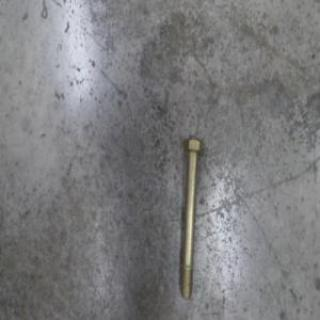Bolttrack_idkeyframe: (178, 134, 203, 300)
